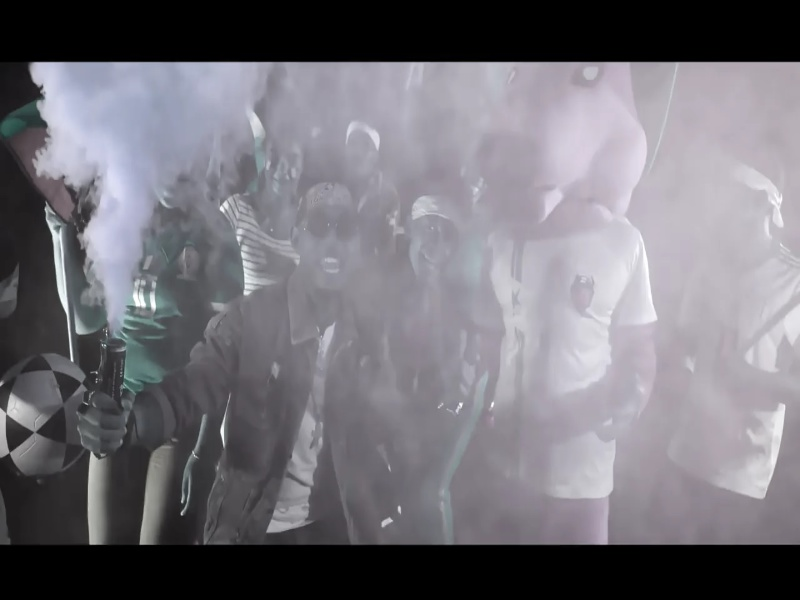TsisyArotava: (289, 178, 370, 303)
